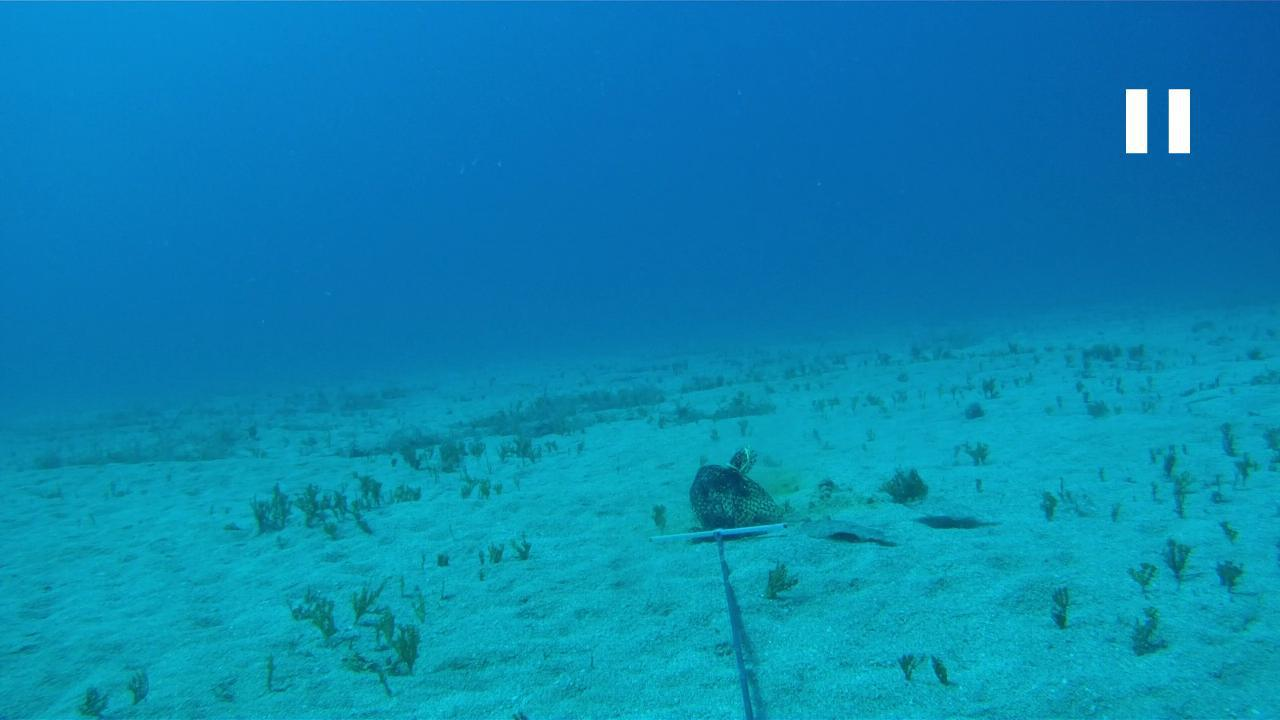bothus: (795, 510, 888, 553), (898, 495, 1004, 528)
